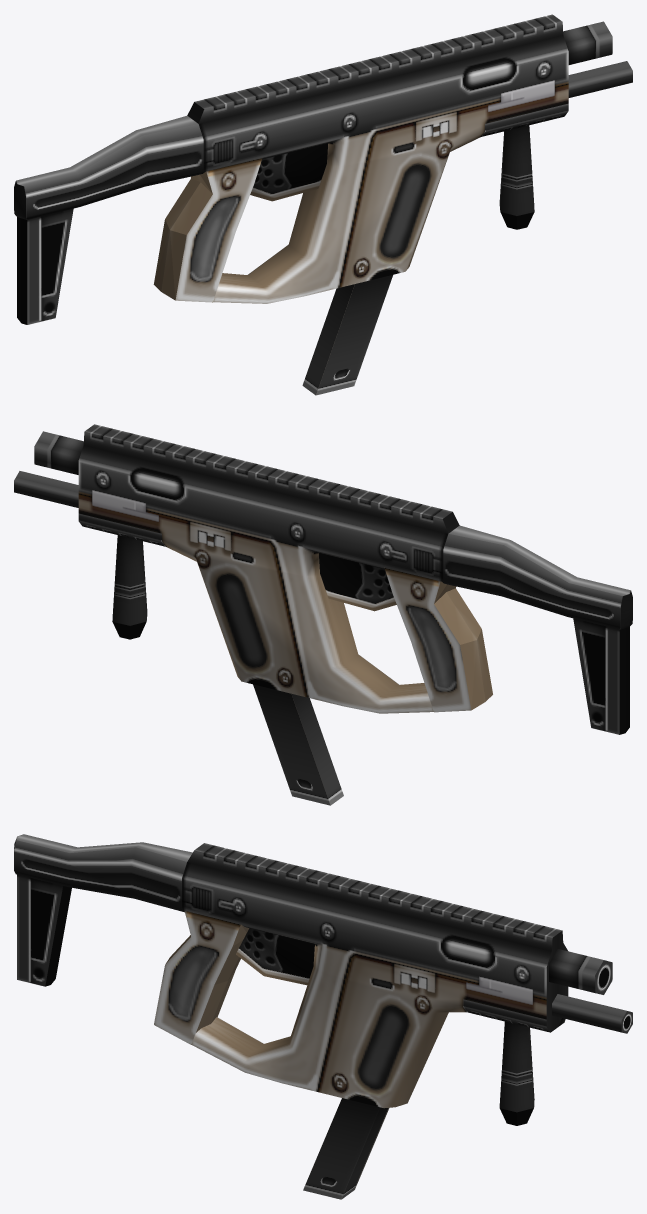
Rendered from smg kriss superV lv1.FBX.
3 renders of one model, top to bottom at view 1: azimuth 30°, elevation 25°; view 2: azimuth 150°, elevation 25°; view 3: azimuth 330°, elevation 25°, orthographic.
Parts seen in each view (by area): view 1: Object090; view 2: Object090; view 3: Object090.
Boxes of the visible parts, <box> form: Object090: <box>14,14,632,395</box>; Object090: <box>14,424,632,805</box>; Object090: <box>14,834,632,1199</box>.
Size of the model in its own units: 71.25 by 34.68 by 4.39.
